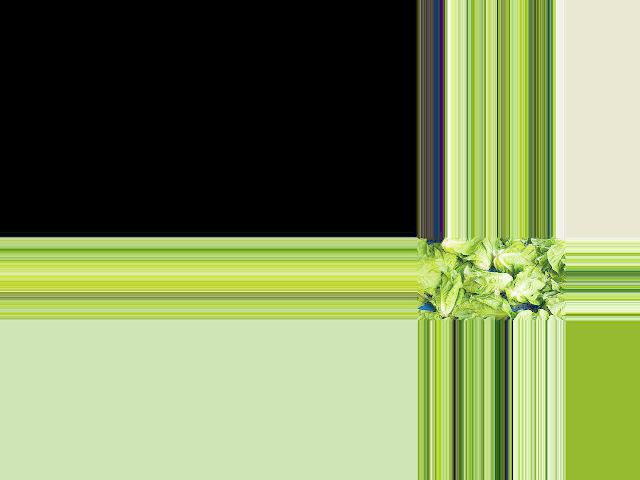lettuce: (434, 238, 484, 256)
